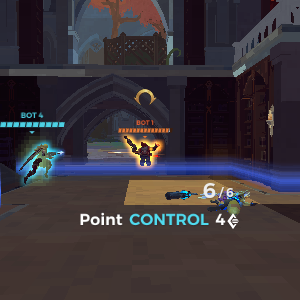model: (132, 137, 157, 170)
